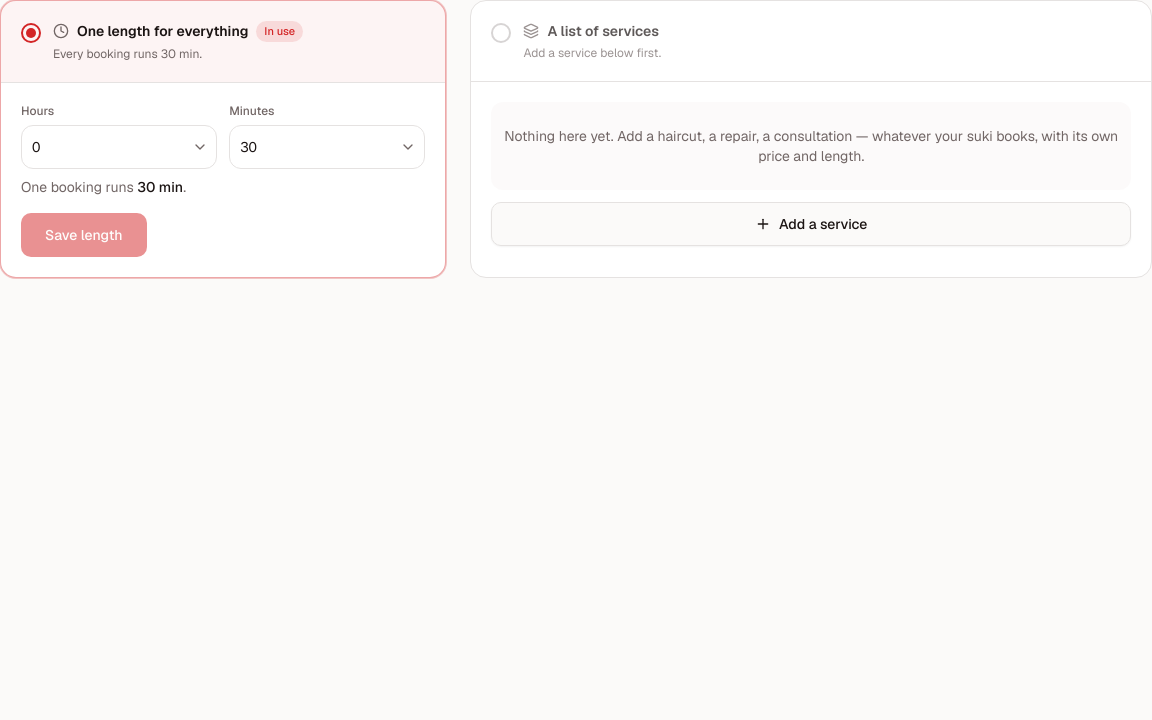
LengthPanel › refuses a price it cannot read rather than guessing one
Click the button "Add a service": (811, 224) [491,202,1131,246]
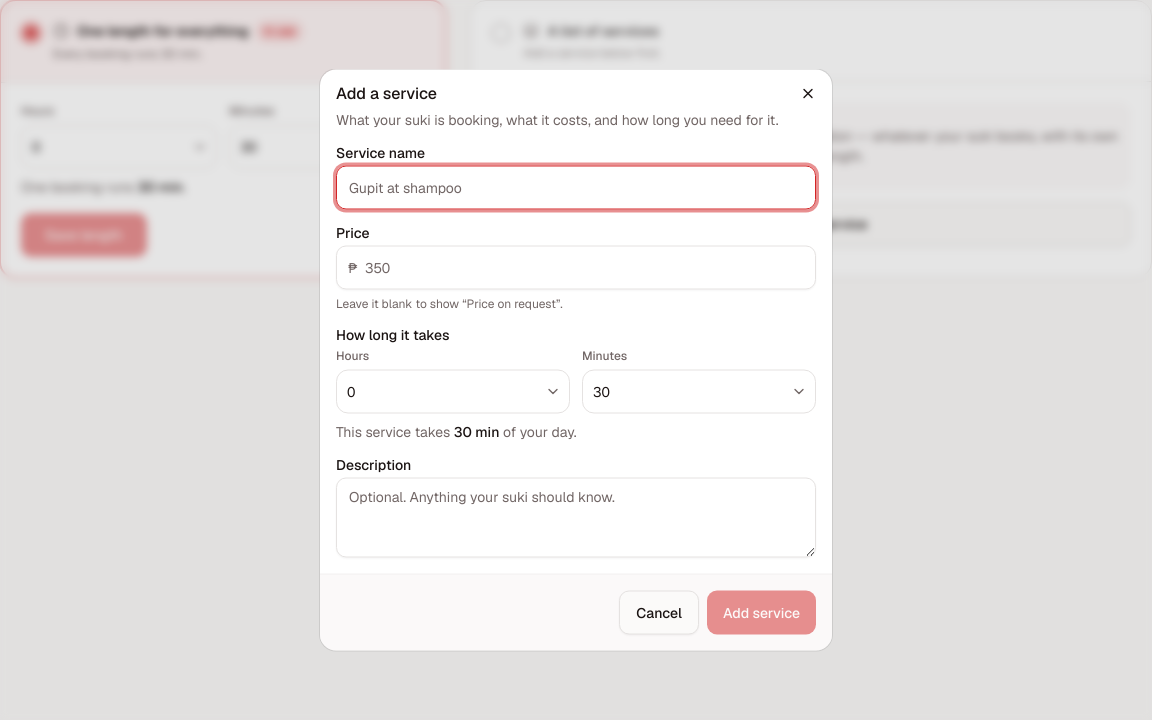
In the field labelled "Service name": (576, 188) [336,166,816,210], type "Manicure"
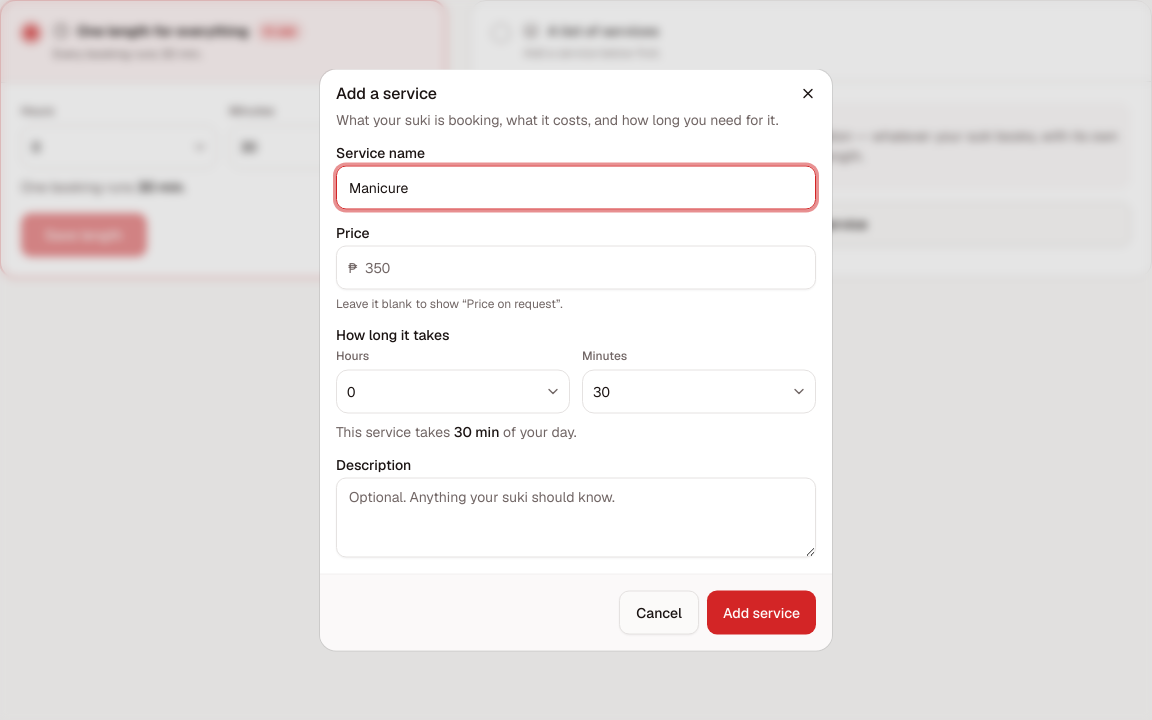
In the field labelled "Price": (576, 268) [336,246,816,290], type "tatlong daan"
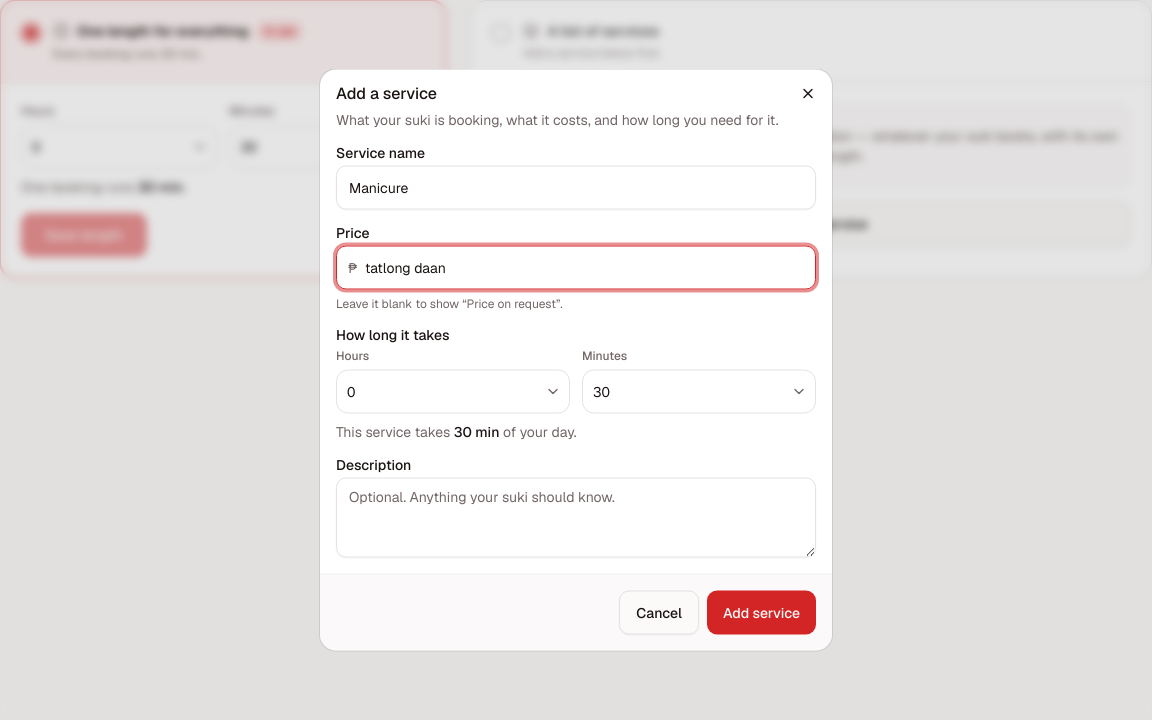
Click the button "Add service": (761, 612) [707,590,816,634]
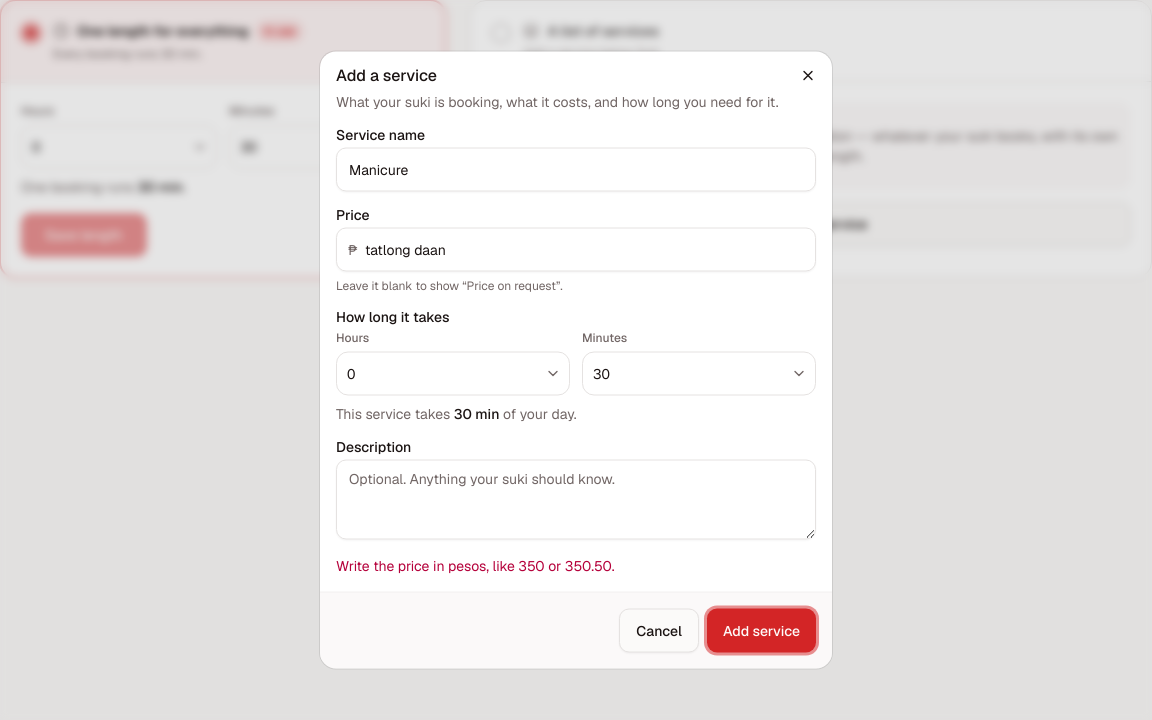
Check: the message shows "pesos", box [336,556,615,574]
